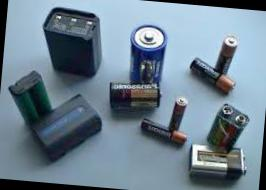battery: (32, 3, 115, 83), (25, 87, 110, 164), (118, 17, 176, 90), (178, 140, 250, 184), (7, 67, 55, 131), (198, 102, 253, 155), (103, 74, 166, 120), (181, 56, 246, 97), (208, 29, 248, 74), (134, 119, 192, 148), (162, 92, 192, 132)
